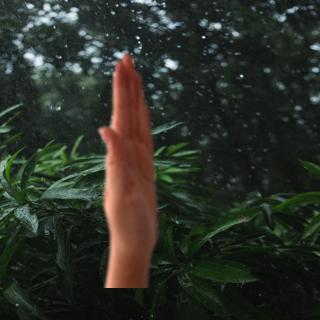Right: (94, 42, 170, 288)
